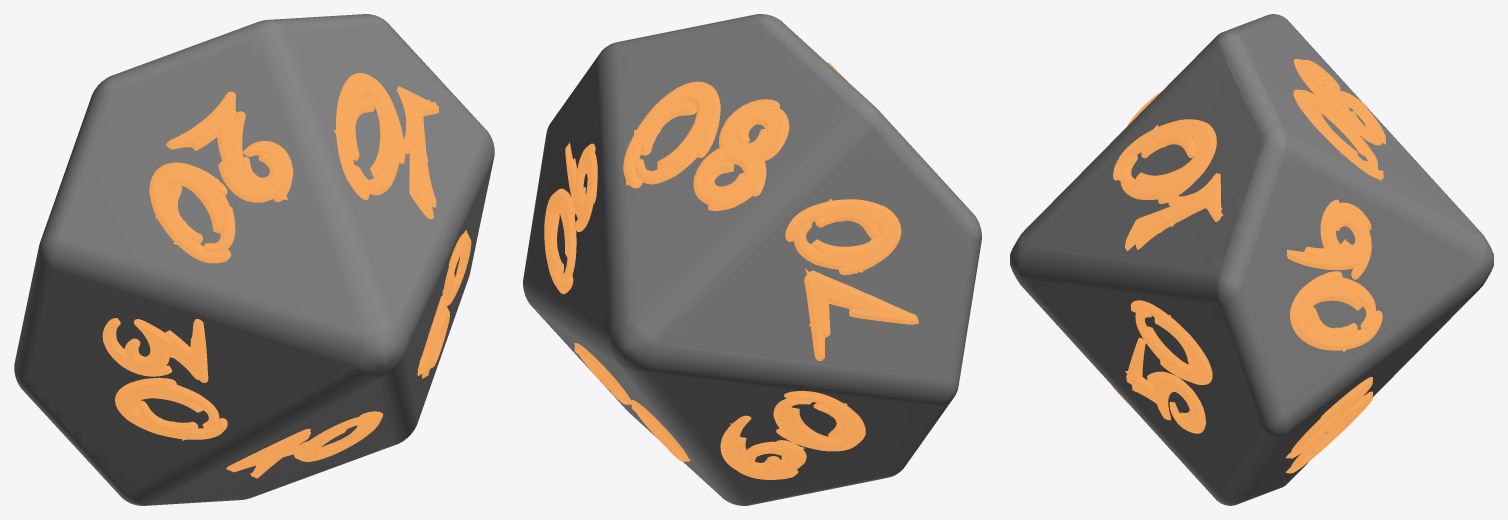
The picture shows the model from 3 angles, left to right: view 1: azimuth 30°, elevation 25°; view 2: azimuth 150°, elevation 25°; view 3: azimuth 270°, elevation 25°; orthographic projection. The views are drawn at different scales.
Visible parts, largest first — view 1: d10_0, d10_1, d10_1.001; view 2: d10_0, d10_1, d10_1.001; view 3: d10_0, d10_1, d10_1.001.
Boxes of the visible parts, x1,y1,x2,y2 form: d10_0: [14, 14, 494, 505]; d10_1: [102, 73, 471, 478]; d10_1.001: [102, 86, 469, 475]; d10_0: [523, 14, 981, 505]; d10_1: [544, 62, 918, 479]; d10_1.001: [548, 63, 918, 476]; d10_0: [1010, 14, 1493, 505]; d10_1: [1113, 59, 1385, 473]; d10_1.001: [1112, 59, 1385, 473].
Bounding box in the file's own units: 2.66 × 2.78 × 2.69.
